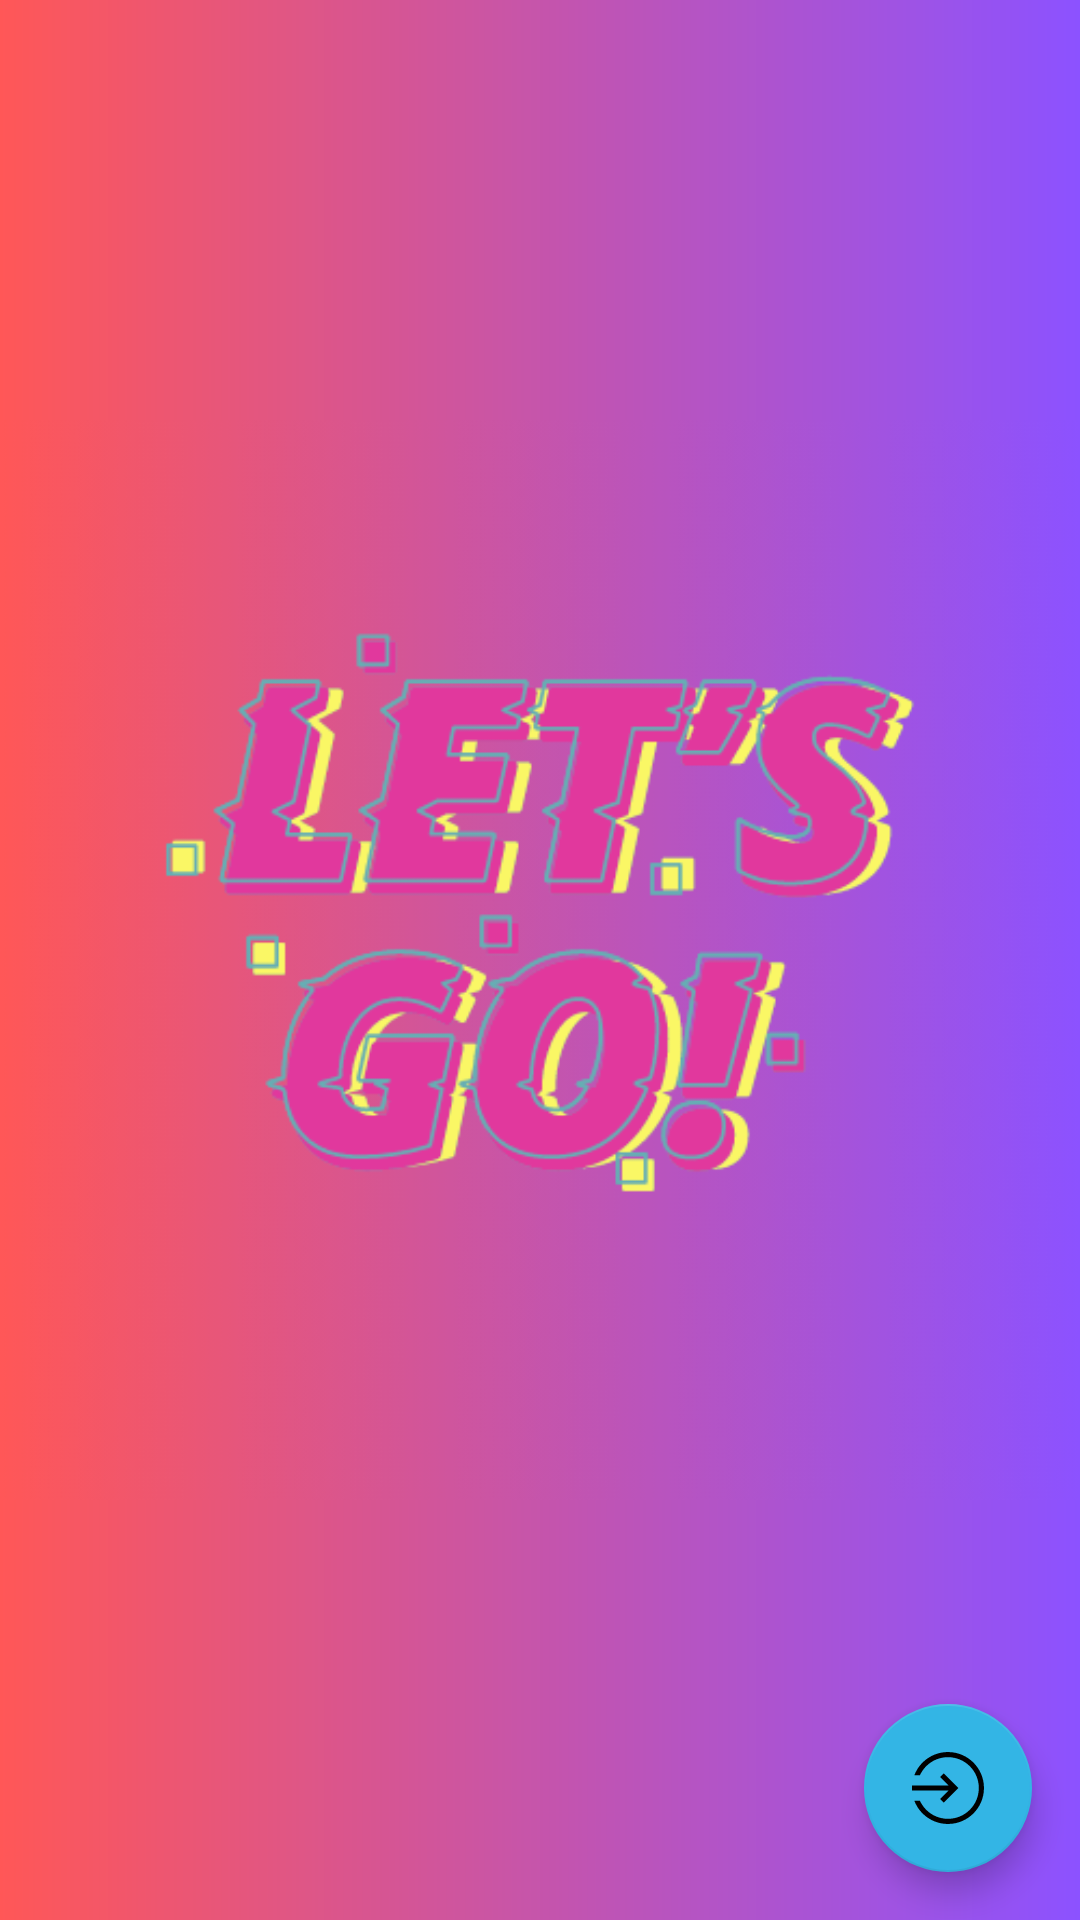

Screen size 1080x1920. Icon name, then its box in pixels as (left=x1, top=y1, right=x2, bottom=y2):
进入应用: (left=864, top=1704, right=1032, bottom=1872)
